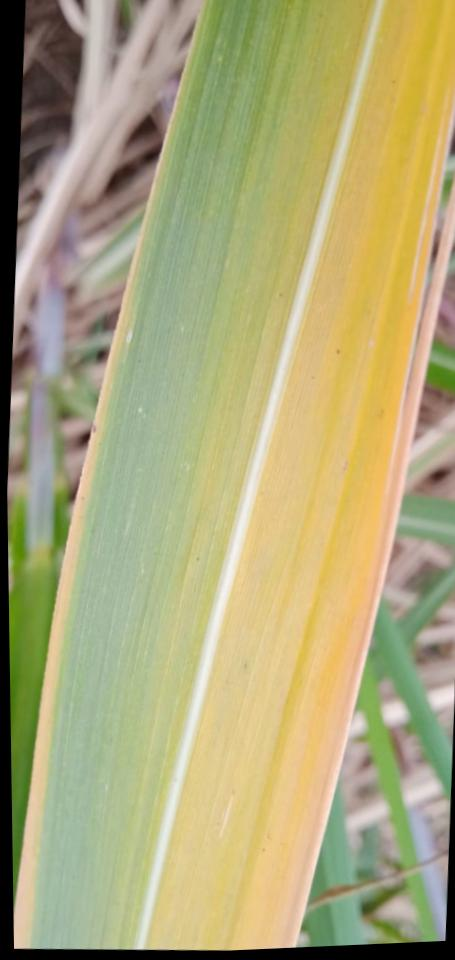Yellow: (143, 0, 455, 950), (14, 103, 174, 949)
